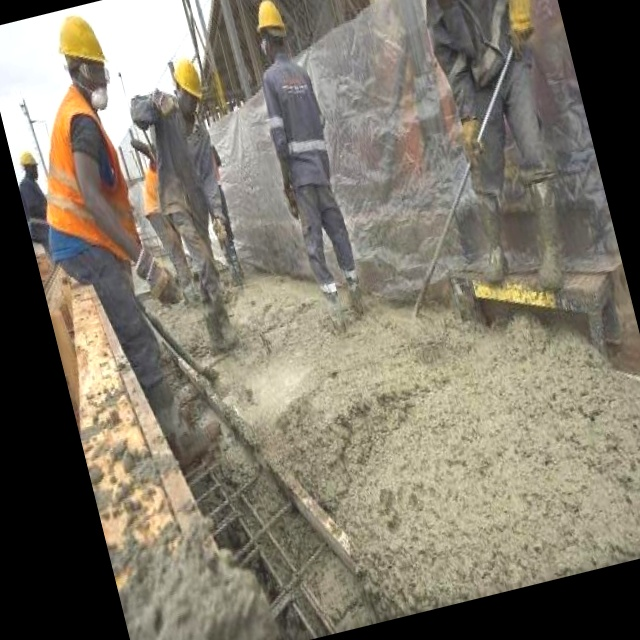Con_Casco: (165, 55, 211, 119), (251, 0, 293, 57)
Con_Chaleco: (23, 90, 148, 275)
